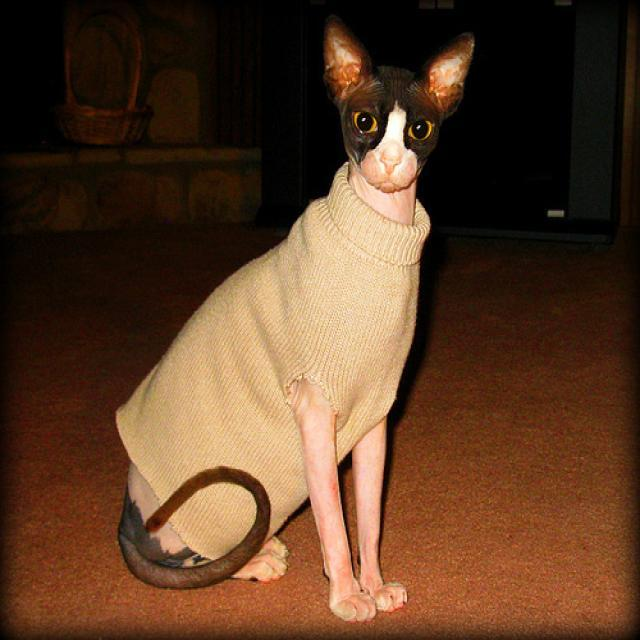Sphynx: (318, 2, 477, 191)
